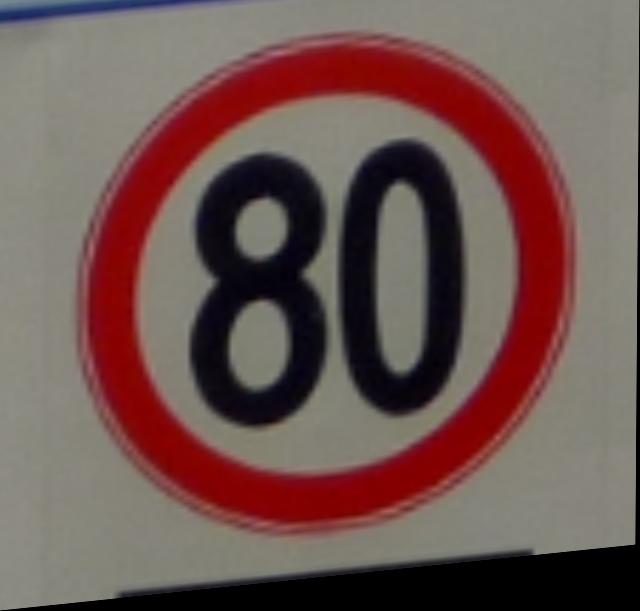limit80: (50, 7, 592, 570)
